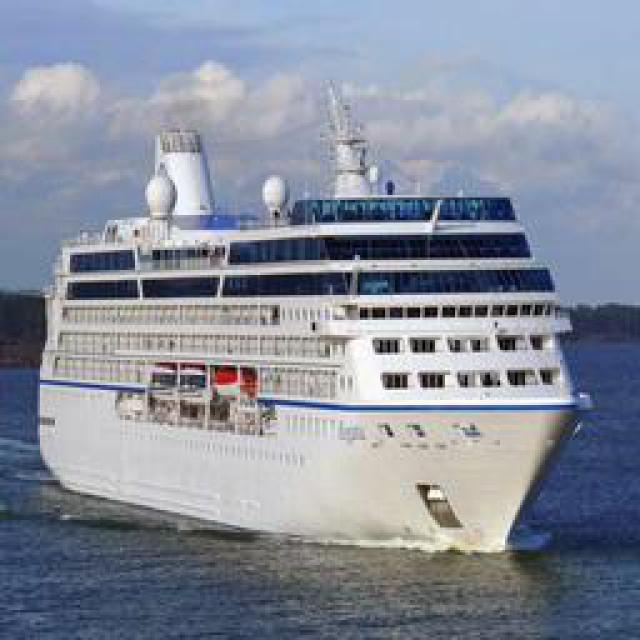Ship: (34, 134, 589, 557)
